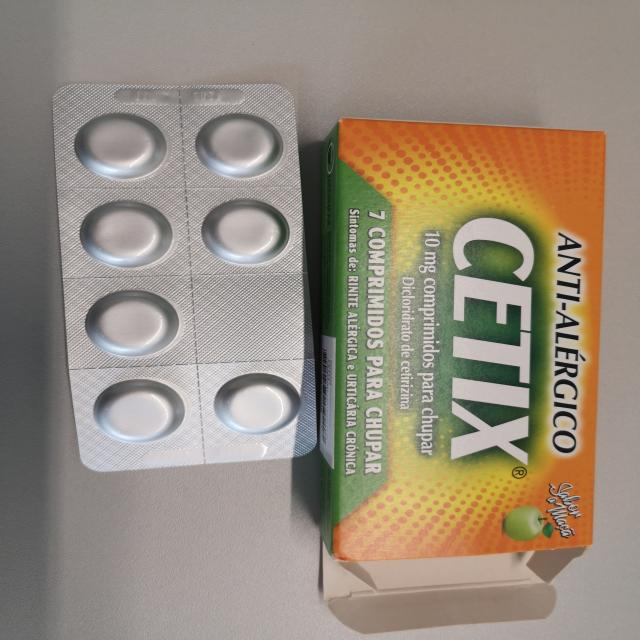Pill: (82, 286, 183, 362), (77, 196, 175, 272), (88, 375, 188, 449), (70, 110, 172, 182), (200, 194, 295, 268), (192, 110, 287, 182), (212, 369, 306, 438)
